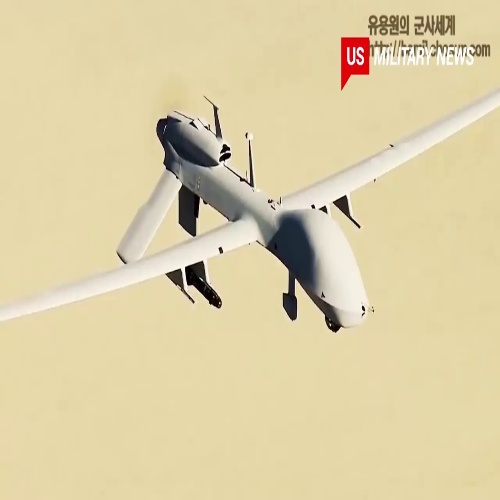uav: (1, 92, 500, 335)
